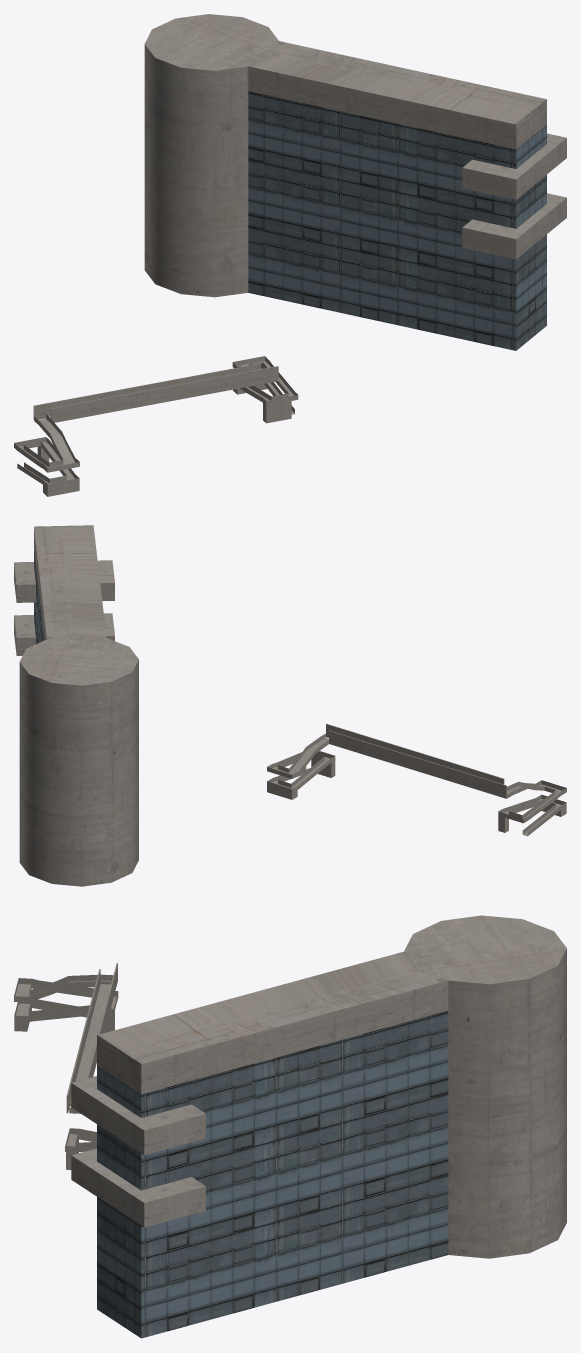
File: UAQ.obj
The picture shows the model from 3 angles, top to bottom: view 1: azimuth 30°, elevation 25°; view 2: azimuth 150°, elevation 25°; view 3: azimuth 270°, elevation 25°; orthographic projection. The views are drawn at different scales.
Visible parts, largest first — view 1: UAQ, Puente, Escaleras; view 2: UAQ, Escaleras, Puente; view 3: UAQ, Escaleras, Puente.
Part boxes in pixels (x1=…): UAQ: x1=144, y1=14, x2=566, y2=350; Puente: x1=33, y1=363, x2=278, y2=422; Escaleras: x1=14, y1=356, x2=298, y2=496; UAQ: x1=14, y1=525, x2=138, y2=886; Escaleras: x1=267, y1=733, x2=566, y2=836; Puente: x1=326, y1=723, x2=506, y2=798; UAQ: x1=71, y1=915, x2=566, y2=1338; Escaleras: x1=14, y1=974, x2=118, y2=1169; Puente: x1=66, y1=963, x2=117, y2=1113.
Size of the model in its own units: 140 by 53.18 by 96.93.
